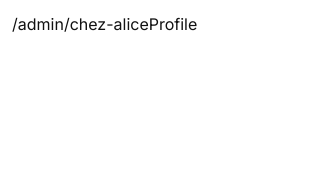
Test: push identity lifecycle › keeps one native subscription and the same device identity across router navigation
The image size is (332, 172).
Click the link "Profile". click: (173, 24)
box: [149,14,197,34]
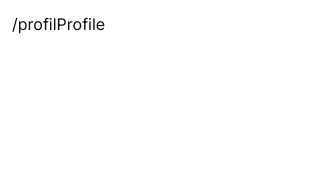
Result: the text named "current-route" reads "/profil" at [12,14,57,34]
